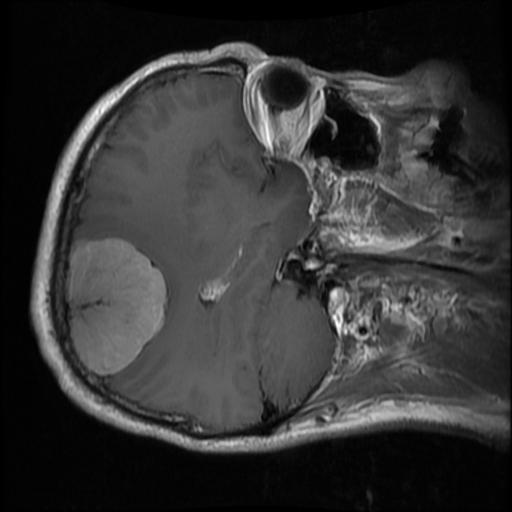meningioma: (67, 234, 167, 375)
